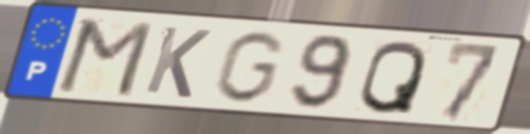7: (442, 39, 503, 124)
9: (289, 33, 355, 112)
G: (210, 29, 289, 106)
K: (140, 23, 214, 101)
M: (52, 17, 158, 100)
Q: (356, 38, 431, 117)
